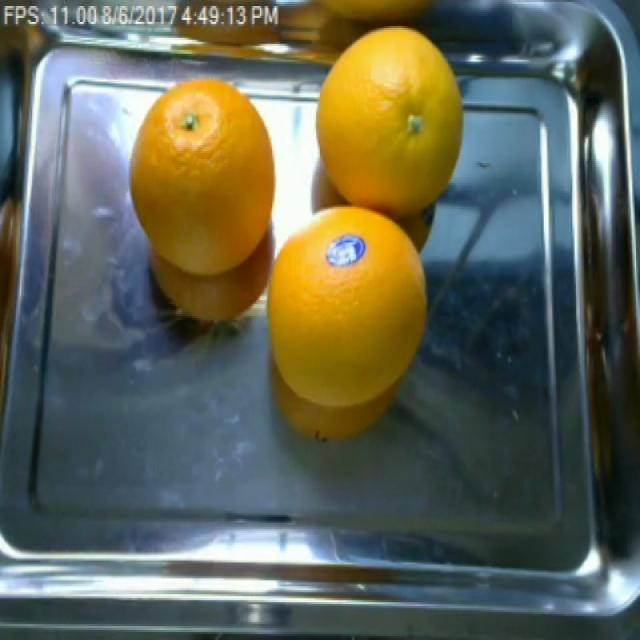Fruit: (115, 64, 284, 286), (252, 270, 421, 455)
